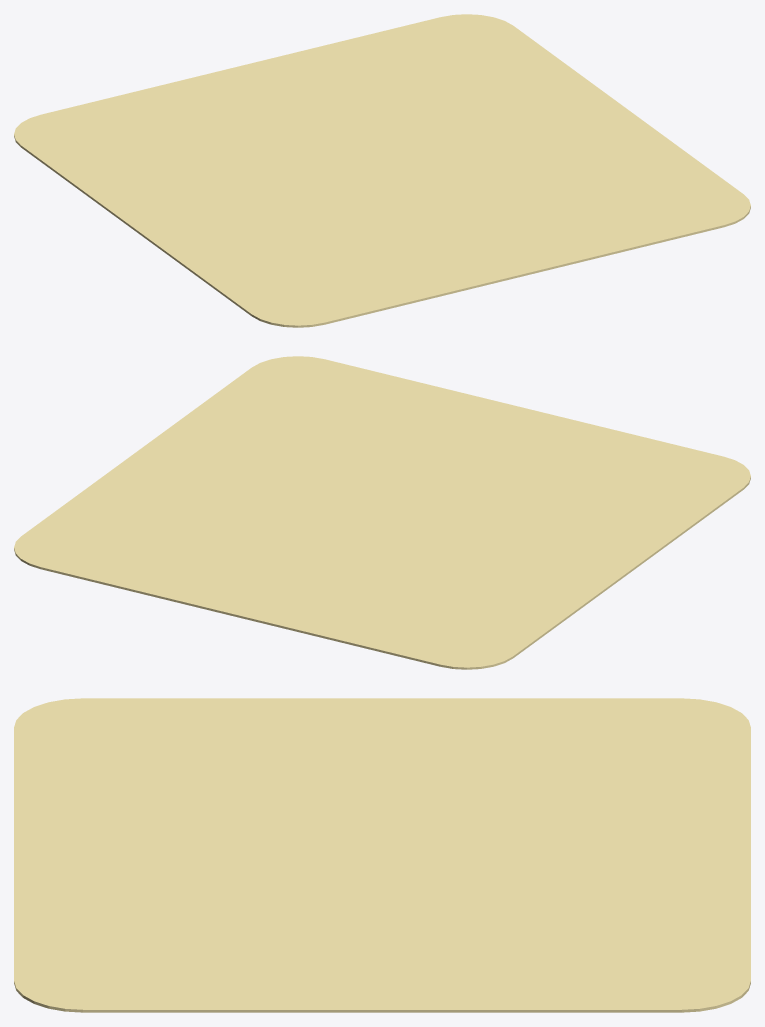
3 views of the same model, one above another, from view 1: azimuth 30°, elevation 25°; view 2: azimuth 150°, elevation 25°; view 3: azimuth 270°, elevation 25° (orthographic). The views are drawn at different scales.
Visible parts, largest first — view 1: COM-02 Floor Surface; view 2: COM-02 Floor Surface; view 3: COM-02 Floor Surface.
Boxes of the visible parts, left/top/right/bottom form: COM-02 Floor Surface: left=14, top=14, right=750, bottom=327; COM-02 Floor Surface: left=14, top=356, right=750, bottom=669; COM-02 Floor Surface: left=14, top=698, right=750, bottom=1012.
Bounding box in the file's own units: 192 × 0.8 × 192.
